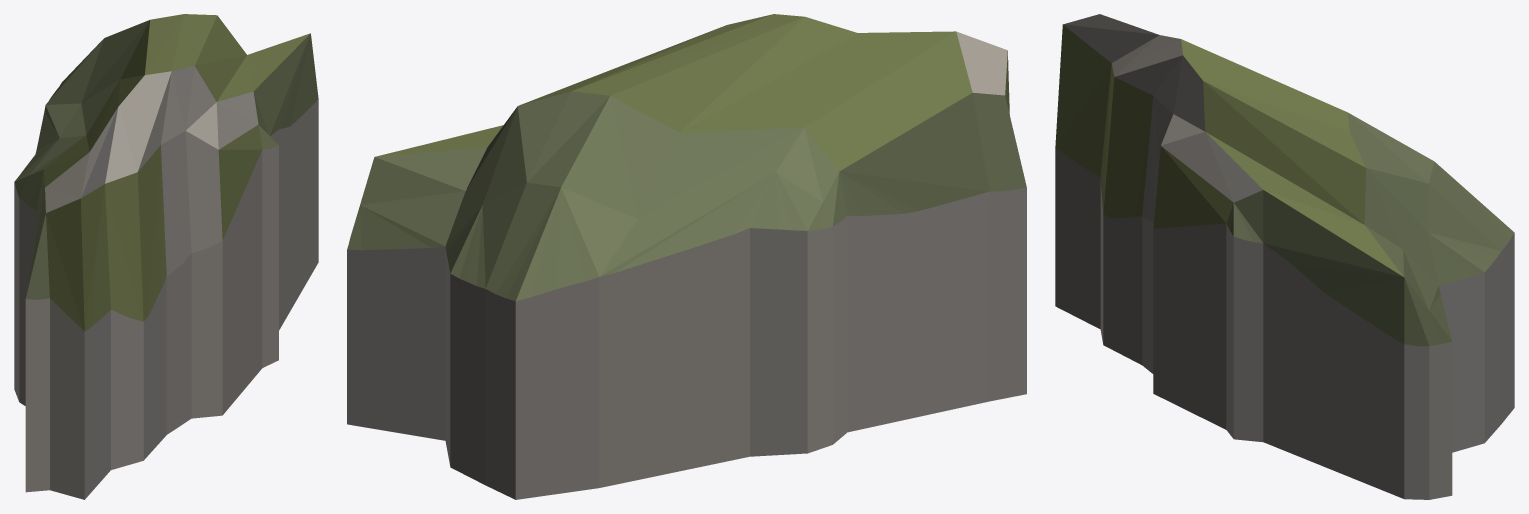
Rendered from cliff_crown.glb.
The picture shows the model from 3 angles, left to right: view 1: azimuth 30°, elevation 25°; view 2: azimuth 150°, elevation 25°; view 3: azimuth 270°, elevation 25°; orthographic projection. The views are drawn at different scales.
Visible parts, largest first — view 1: cliff_crown; view 2: cliff_crown; view 3: cliff_crown.
Boxes of the visible parts, x1,y1,x2,y2 form: cliff_crown: (14, 14, 318, 499); cliff_crown: (347, 14, 1026, 499); cliff_crown: (1055, 14, 1514, 499).
Bounding box in the file's own units: 134 × 97 × 124.
